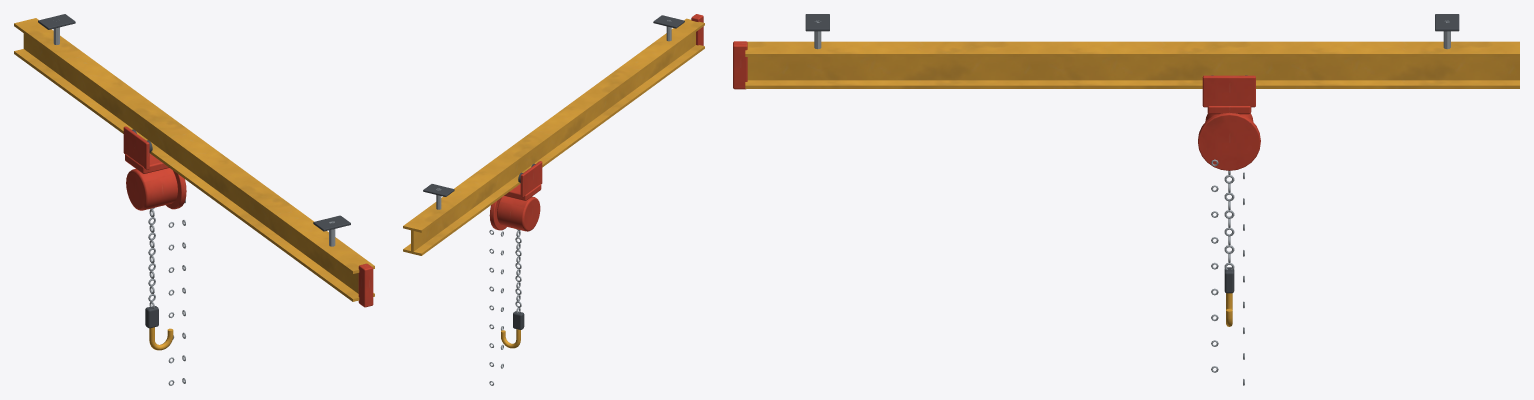
The model's file is ChainHoist.glb.
The picture shows the model from 3 angles, left to right: view 1: azimuth 30°, elevation 25°; view 2: azimuth 150°, elevation 25°; view 3: azimuth 270°, elevation 25°; orthographic projection. The views are drawn at different scales.
Parts seen in each view (by area): view 1: ChainHoist_Body, ChainHoist_Trolley, ChainHoist_Hook; view 2: ChainHoist_Body, ChainHoist_Trolley, ChainHoist_Hook; view 3: ChainHoist_Body, ChainHoist_Trolley.
Part boxes in pixels (x1,y1,x2,y2): ChainHoist_Body: [14, 14, 374, 307]; ChainHoist_Trolley: [123, 126, 186, 385]; ChainHoist_Hook: [145, 306, 173, 350]; ChainHoist_Body: [403, 14, 704, 255]; ChainHoist_Trolley: [489, 161, 542, 385]; ChainHoist_Hook: [501, 311, 524, 348]; ChainHoist_Body: [733, 14, 1519, 89]; ChainHoist_Trolley: [1198, 75, 1260, 385].
Bounding box in the file's own units: 0.256 × 1.6 × 3.25.
Materials: 4 (2 with a texture image).
